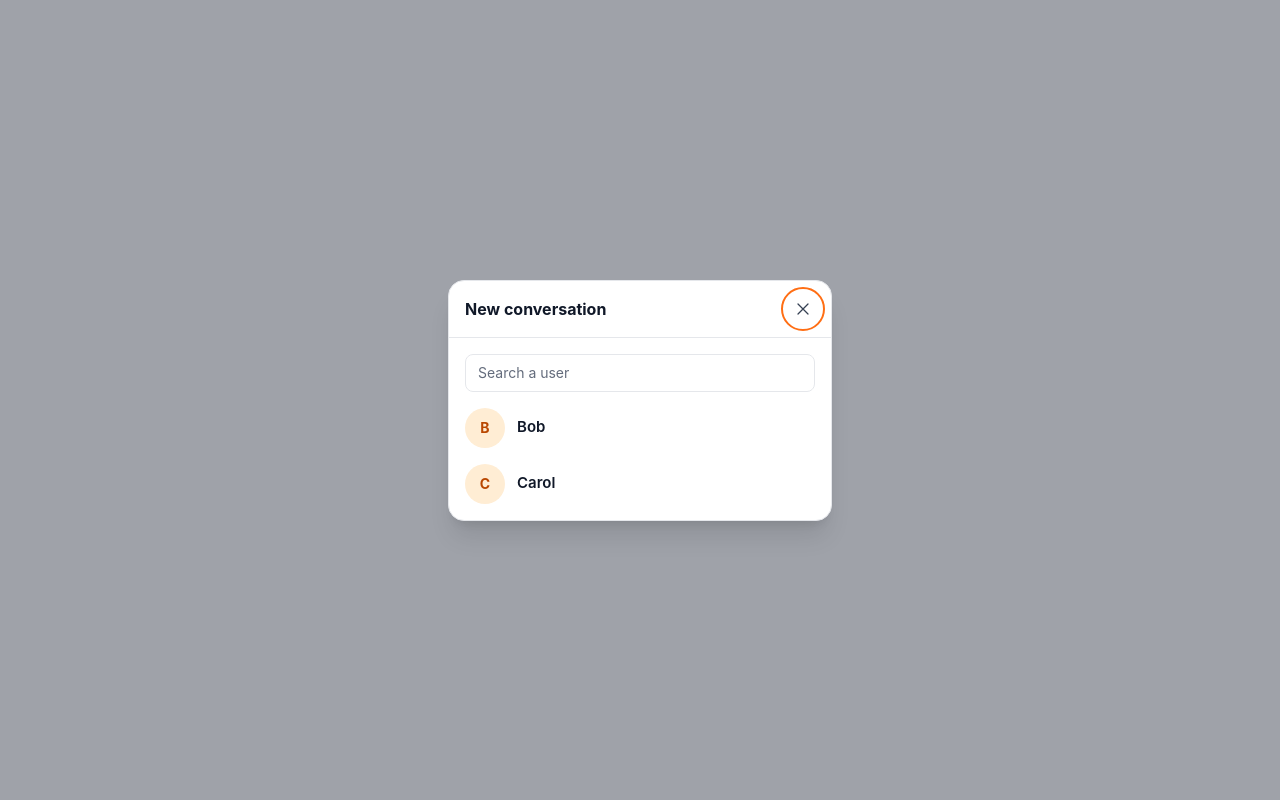
Test: ConversationRecipientDialog › Filter recipient list › When searched nickname matches no recipient › should show that no user is found
The image size is (1280, 800).
Type "zoe" into the search field with placeholder "Search a user" at (640, 372), box [465,354,815,392]
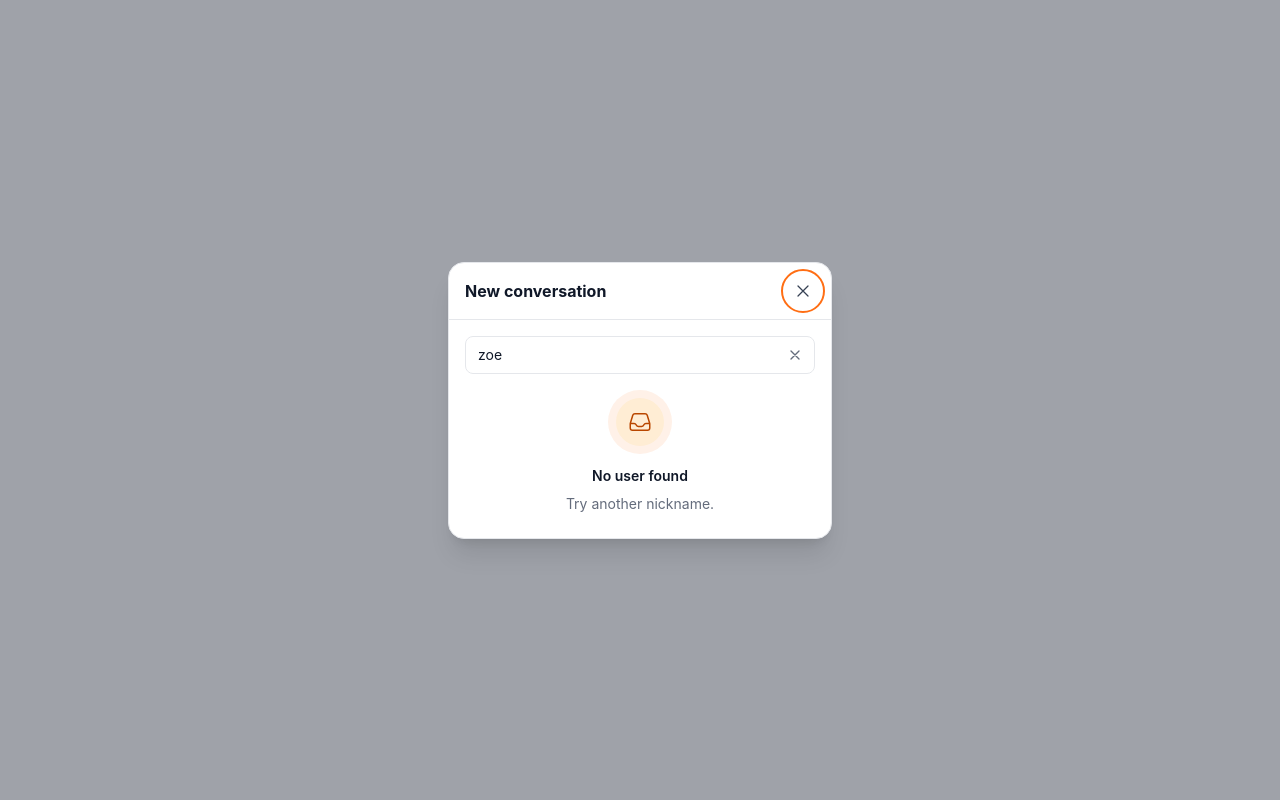
Check: the dialog shows "No user found", box [592,466,688,484]
